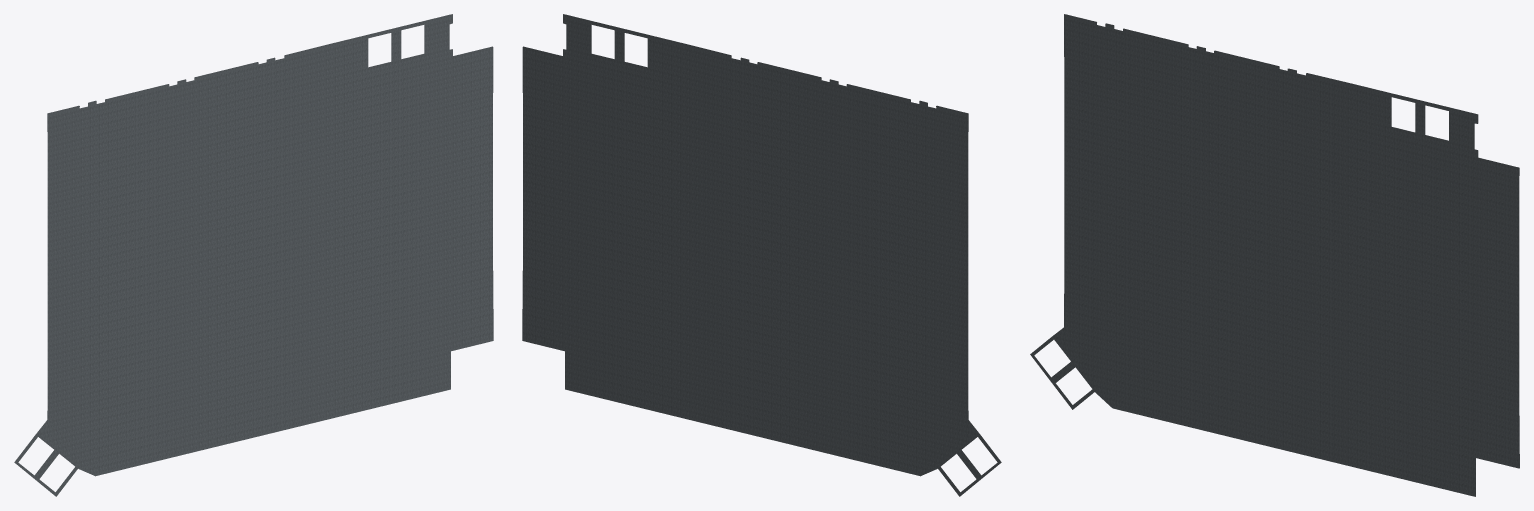
The model's file is floor_1.obj.
3 views of the same model, side by side, from view 1: azimuth 30°, elevation 25°; view 2: azimuth 150°, elevation 25°; view 3: azimuth 330°, elevation 25° (orthographic). The views are drawn at different scales.
Parts seen in each view (by area): view 1: floor_1; view 2: floor_1; view 3: floor_1.
Part boxes in pixels (x1,y1,x2,y2): floor_1: [14, 14, 493, 496]; floor_1: [522, 14, 1001, 496]; floor_1: [1030, 14, 1519, 496].
Size of the model in its own units: 52.8 by 40.67 by 0.1.
